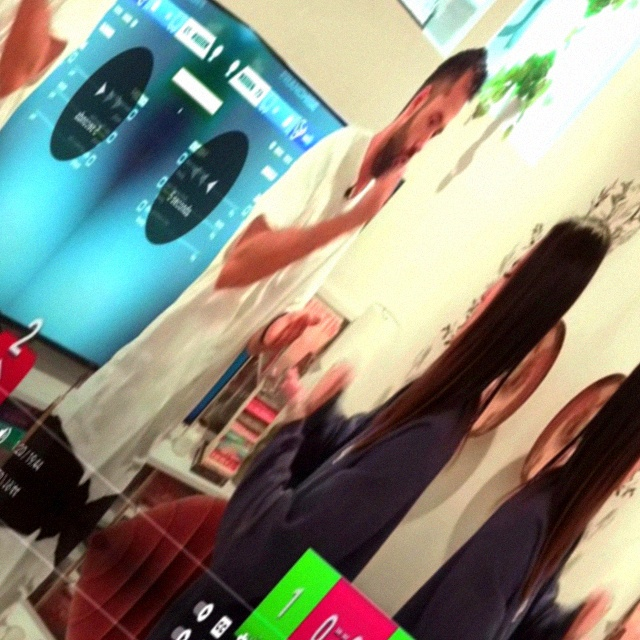Rock: (337, 163, 410, 242), (297, 356, 360, 423)
